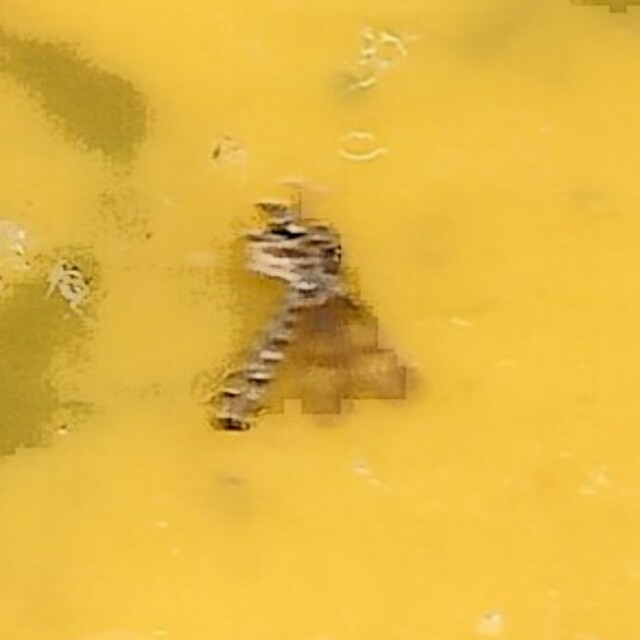Nematocera: (218, 187, 422, 453)
